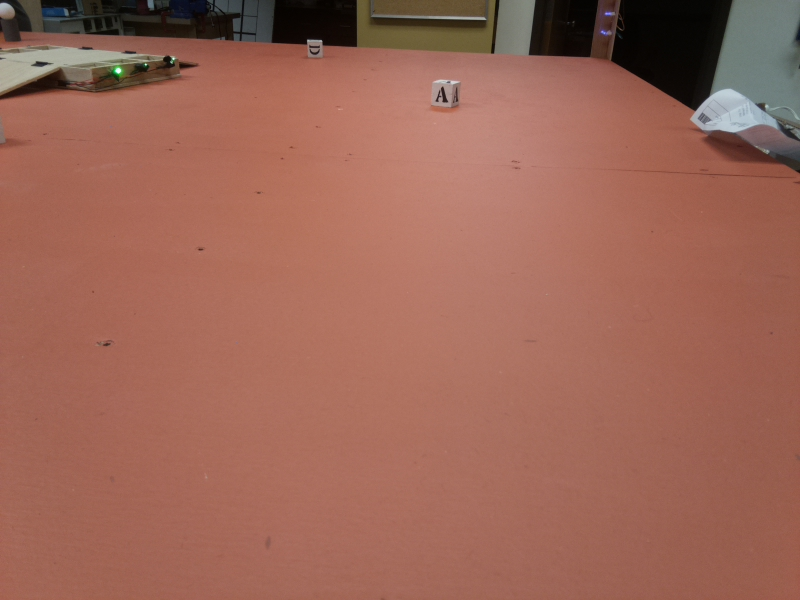blockA: (431, 78, 460, 110)
blockD: (304, 39, 325, 63)
corner: (589, 1, 620, 63)
obstacle: (1, 3, 25, 41)
side: (60, 53, 177, 97)
slope: (1, 56, 62, 95), (179, 55, 199, 71)
